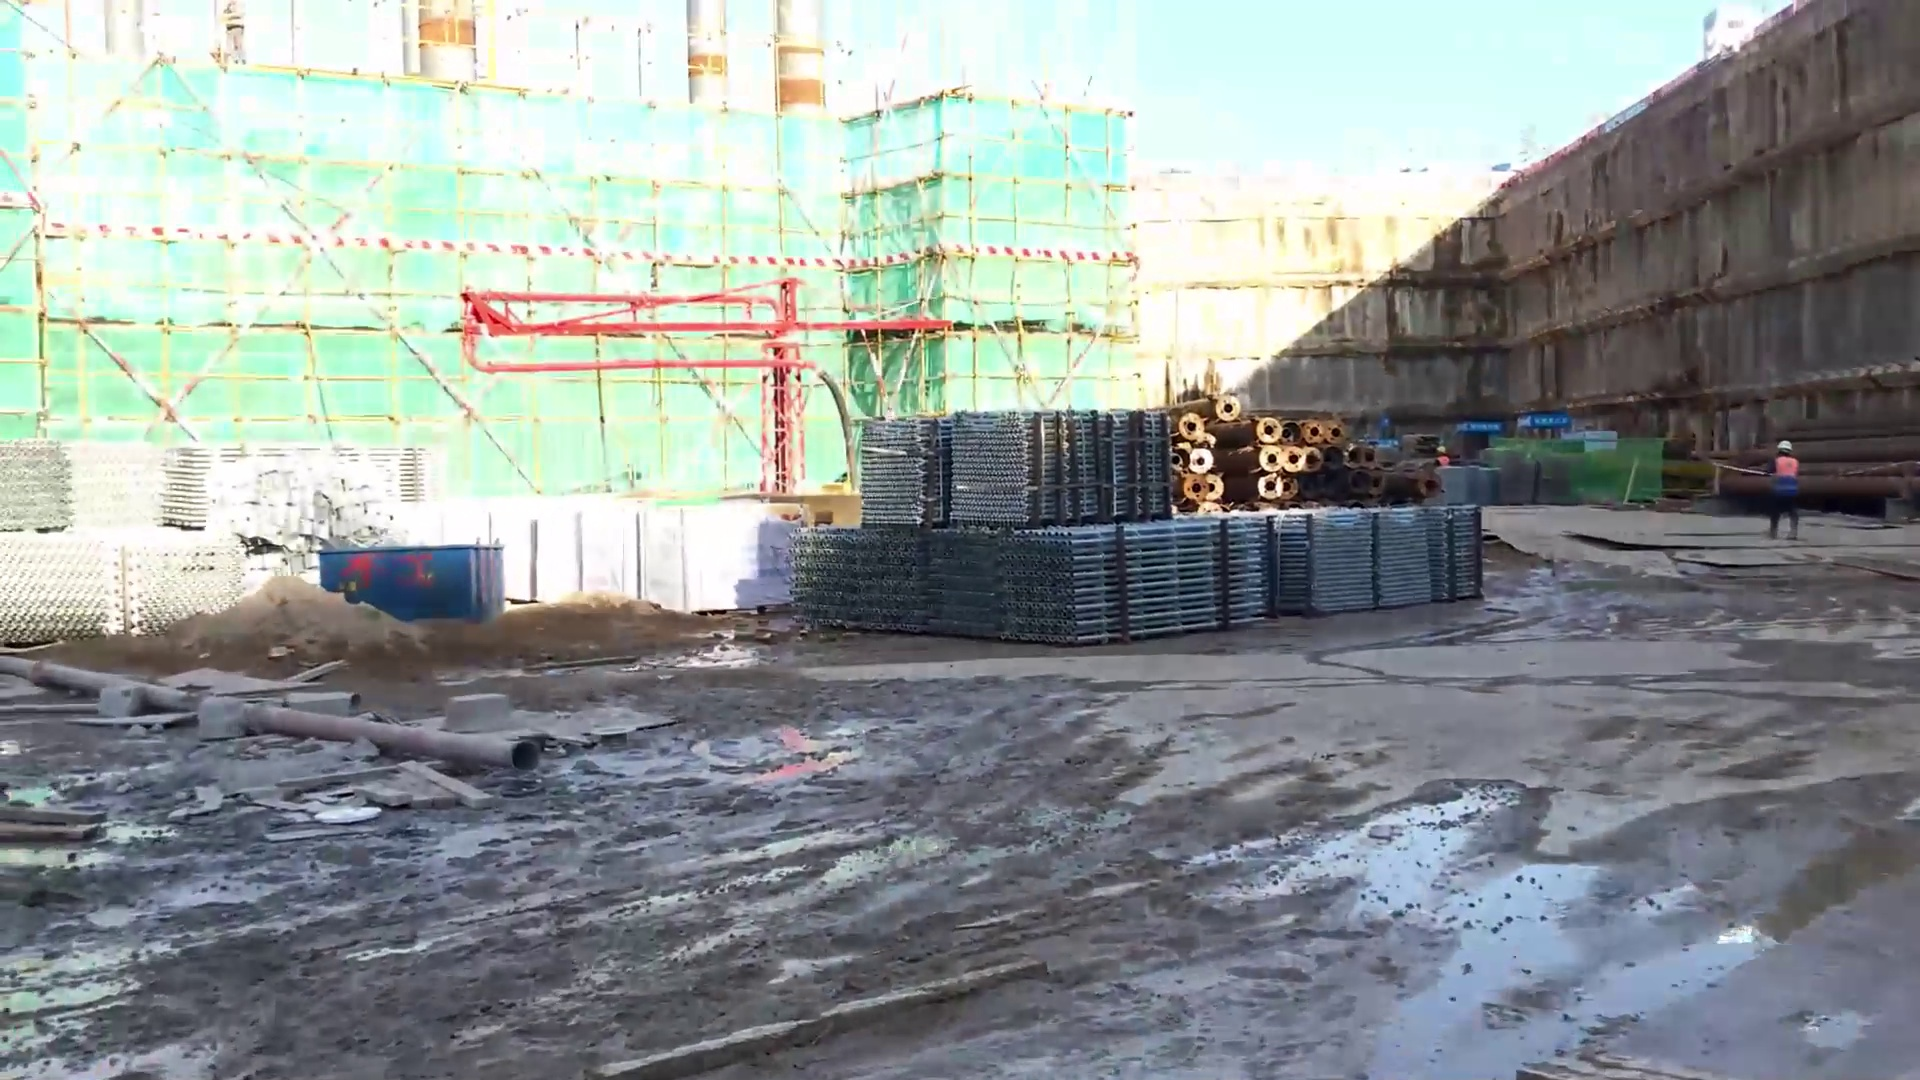helmet: (1773, 439, 1799, 464)
hopper: (322, 529, 506, 634)
person: (1763, 433, 1802, 544)
scaffold: (18, 437, 250, 630), (1000, 535, 1265, 633), (948, 407, 1164, 514), (789, 534, 922, 646), (844, 418, 943, 529), (1271, 508, 1369, 605), (919, 526, 998, 635), (1376, 505, 1433, 594), (1429, 506, 1477, 593)
vest: (1772, 463, 1797, 521)
